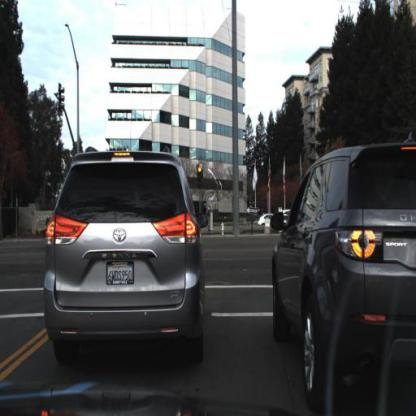car: (274, 144, 414, 413), (41, 152, 205, 372), (260, 215, 290, 233), (45, 212, 53, 244)
trafficLight: (196, 162, 206, 189)
